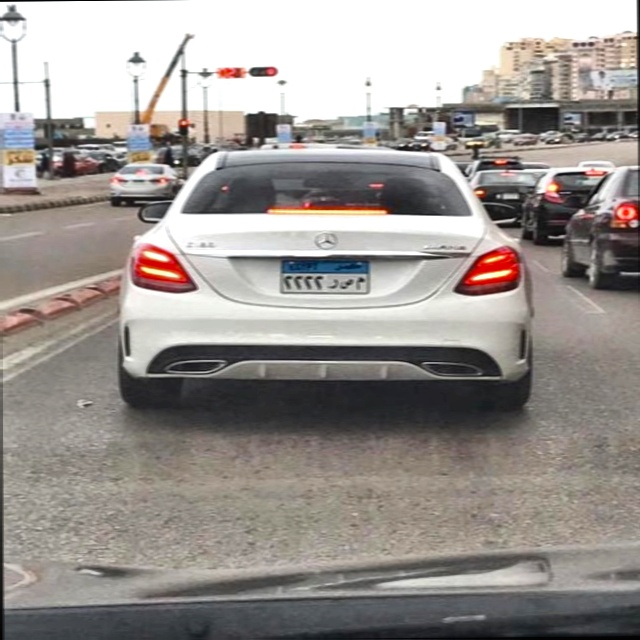License Plate: (278, 258, 370, 297)
